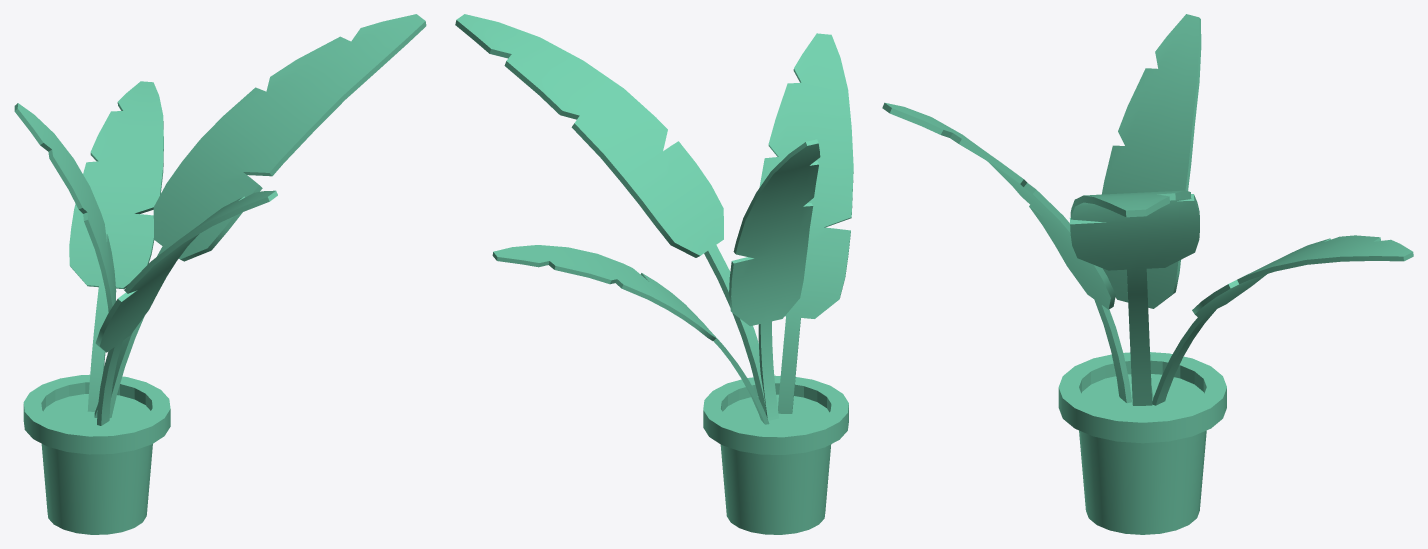
Rendered from Big_plant_for_texture.fbx.
The picture shows the model from 3 angles, left to right: view 1: azimuth 30°, elevation 25°; view 2: azimuth 150°, elevation 25°; view 3: azimuth 270°, elevation 25°; orthographic projection. The views are drawn at different scales.
Parts seen in each view (by area): view 1: Big_plant; view 2: Big_plant; view 3: Big_plant.
Boxes of the visible parts, <box> form: Big_plant: <box>14,14,426,534</box>; Big_plant: <box>455,14,853,534</box>; Big_plant: <box>882,14,1413,534</box>.
Bounding box in the file's own units: 8.93 × 9.3 × 9.33.
